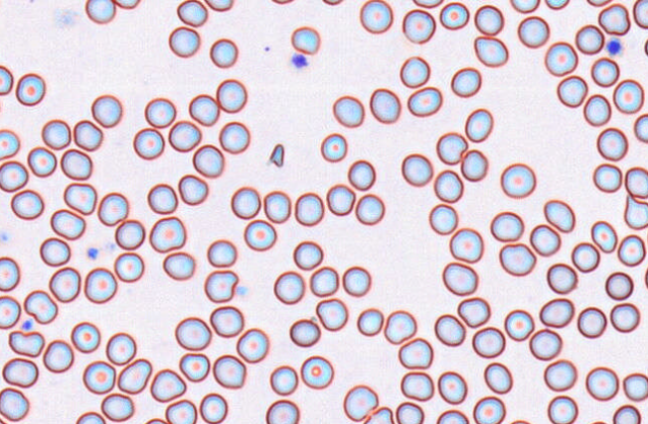PLT: (606, 36, 625, 56), (290, 53, 311, 70), (87, 246, 101, 261), (0, 229, 11, 244), (21, 318, 33, 330)
RBC: (342, 384, 378, 421), (149, 216, 186, 252), (500, 162, 536, 198), (498, 242, 536, 276), (117, 358, 152, 394), (174, 316, 211, 350), (150, 368, 186, 402), (442, 261, 478, 295), (449, 227, 483, 263), (83, 267, 117, 303), (544, 41, 578, 76), (585, 366, 619, 401), (48, 266, 81, 302), (383, 309, 416, 344), (402, 8, 435, 43), (397, 337, 433, 369), (236, 327, 268, 363), (300, 355, 333, 389), (82, 360, 115, 394), (543, 358, 577, 391), (359, 0, 393, 33), (50, 208, 85, 240), (612, 78, 644, 113), (473, 35, 508, 67), (369, 87, 400, 123), (42, 339, 74, 373), (471, 326, 505, 358), (528, 328, 562, 360), (209, 305, 243, 337), (192, 143, 224, 177), (596, 127, 628, 161), (539, 297, 574, 328), (216, 78, 247, 113), (2, 357, 38, 387), (243, 219, 276, 251), (517, 15, 549, 48), (63, 182, 96, 214), (401, 153, 433, 186), (168, 120, 201, 152), (273, 270, 304, 304), (97, 192, 128, 226), (407, 86, 442, 116), (598, 3, 630, 35), (132, 127, 164, 159), (60, 148, 92, 180), (332, 95, 364, 127), (218, 121, 250, 153), (457, 296, 490, 327), (434, 313, 465, 346), (529, 223, 560, 256), (436, 131, 467, 164), (399, 55, 430, 88), (105, 332, 136, 365), (188, 93, 219, 126), (91, 94, 122, 127), (400, 371, 434, 401), (437, 370, 467, 404), (433, 169, 463, 203), (10, 189, 44, 219), (490, 211, 524, 241), (294, 192, 324, 226), (15, 72, 45, 106), (144, 97, 176, 128), (556, 75, 587, 107), (168, 26, 200, 57), (546, 262, 577, 294), (230, 186, 260, 219), (0, 387, 29, 421), (100, 392, 134, 421), (464, 108, 493, 142), (114, 219, 145, 250), (450, 66, 481, 97), (178, 352, 210, 382), (504, 309, 534, 341), (70, 321, 100, 353), (73, 119, 103, 151), (577, 306, 607, 338), (162, 251, 195, 280), (178, 174, 208, 205), (428, 203, 458, 234), (609, 302, 640, 332), (114, 251, 144, 282), (39, 236, 70, 266), (474, 4, 504, 35), (147, 183, 177, 214), (483, 362, 512, 394), (326, 183, 355, 215), (355, 193, 384, 225), (472, 395, 505, 423), (460, 148, 488, 181), (263, 190, 291, 223), (583, 93, 611, 126), (293, 240, 323, 270), (309, 266, 339, 296), (41, 119, 71, 149), (289, 318, 320, 347), (269, 364, 298, 395), (590, 56, 619, 87), (342, 265, 371, 296), (571, 241, 600, 272), (27, 146, 56, 177), (0, 160, 28, 192), (617, 234, 645, 266), (575, 24, 604, 54), (209, 38, 238, 68), (290, 25, 320, 54), (439, 1, 469, 30), (592, 163, 622, 192), (547, 395, 578, 423), (206, 239, 237, 267), (199, 392, 227, 423), (347, 159, 375, 190), (265, 399, 299, 423), (605, 271, 633, 300), (320, 132, 347, 162), (176, 0, 207, 26), (356, 307, 383, 336), (165, 399, 197, 423), (624, 166, 647, 199), (622, 372, 647, 401), (0, 295, 21, 329), (84, 0, 115, 23), (0, 256, 20, 291), (395, 401, 424, 423), (0, 128, 19, 159), (612, 404, 641, 423), (363, 406, 393, 423), (436, 409, 468, 423), (632, 0, 647, 29), (633, 113, 647, 143), (0, 64, 13, 95), (509, 0, 539, 13), (75, 411, 105, 423), (204, 0, 233, 11), (112, 0, 141, 9), (412, 0, 443, 8), (544, 0, 569, 9), (586, 0, 612, 7), (144, 417, 167, 423), (322, 0, 344, 5), (270, 0, 294, 4), (643, 37, 648, 56), (644, 266, 648, 289), (509, 419, 531, 423), (587, 420, 608, 423), (0, 95, 3, 115)
Schistocyte: (24, 289, 58, 325), (204, 271, 239, 303), (316, 299, 349, 332), (544, 201, 576, 234), (8, 331, 45, 357), (592, 220, 617, 254), (623, 197, 648, 230), (269, 142, 284, 168)
